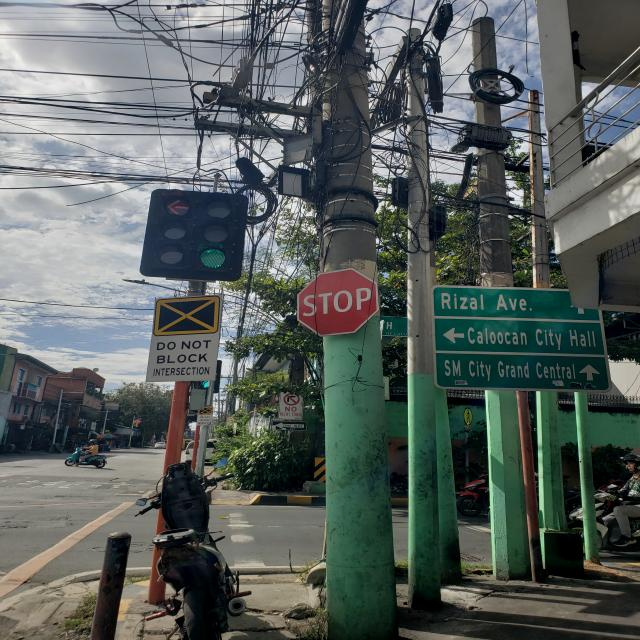stop-sign: (297, 267, 379, 337)
